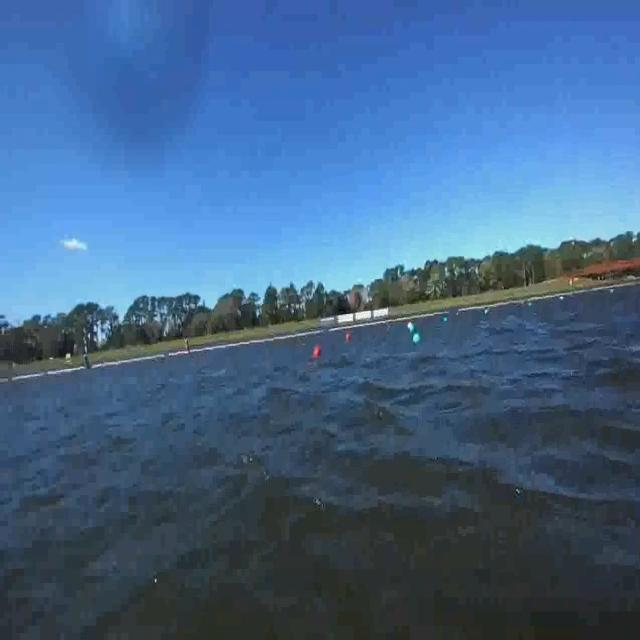green-buoy: (412, 329, 422, 347)
red-buoy: (313, 343, 323, 359), (347, 334, 352, 344)
